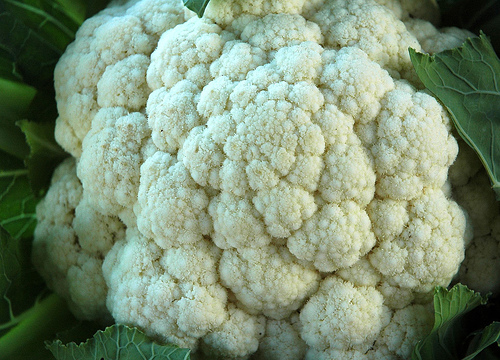cauliflower: (30, 1, 480, 356)
